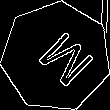M_SW: (22, 23, 90, 91)
